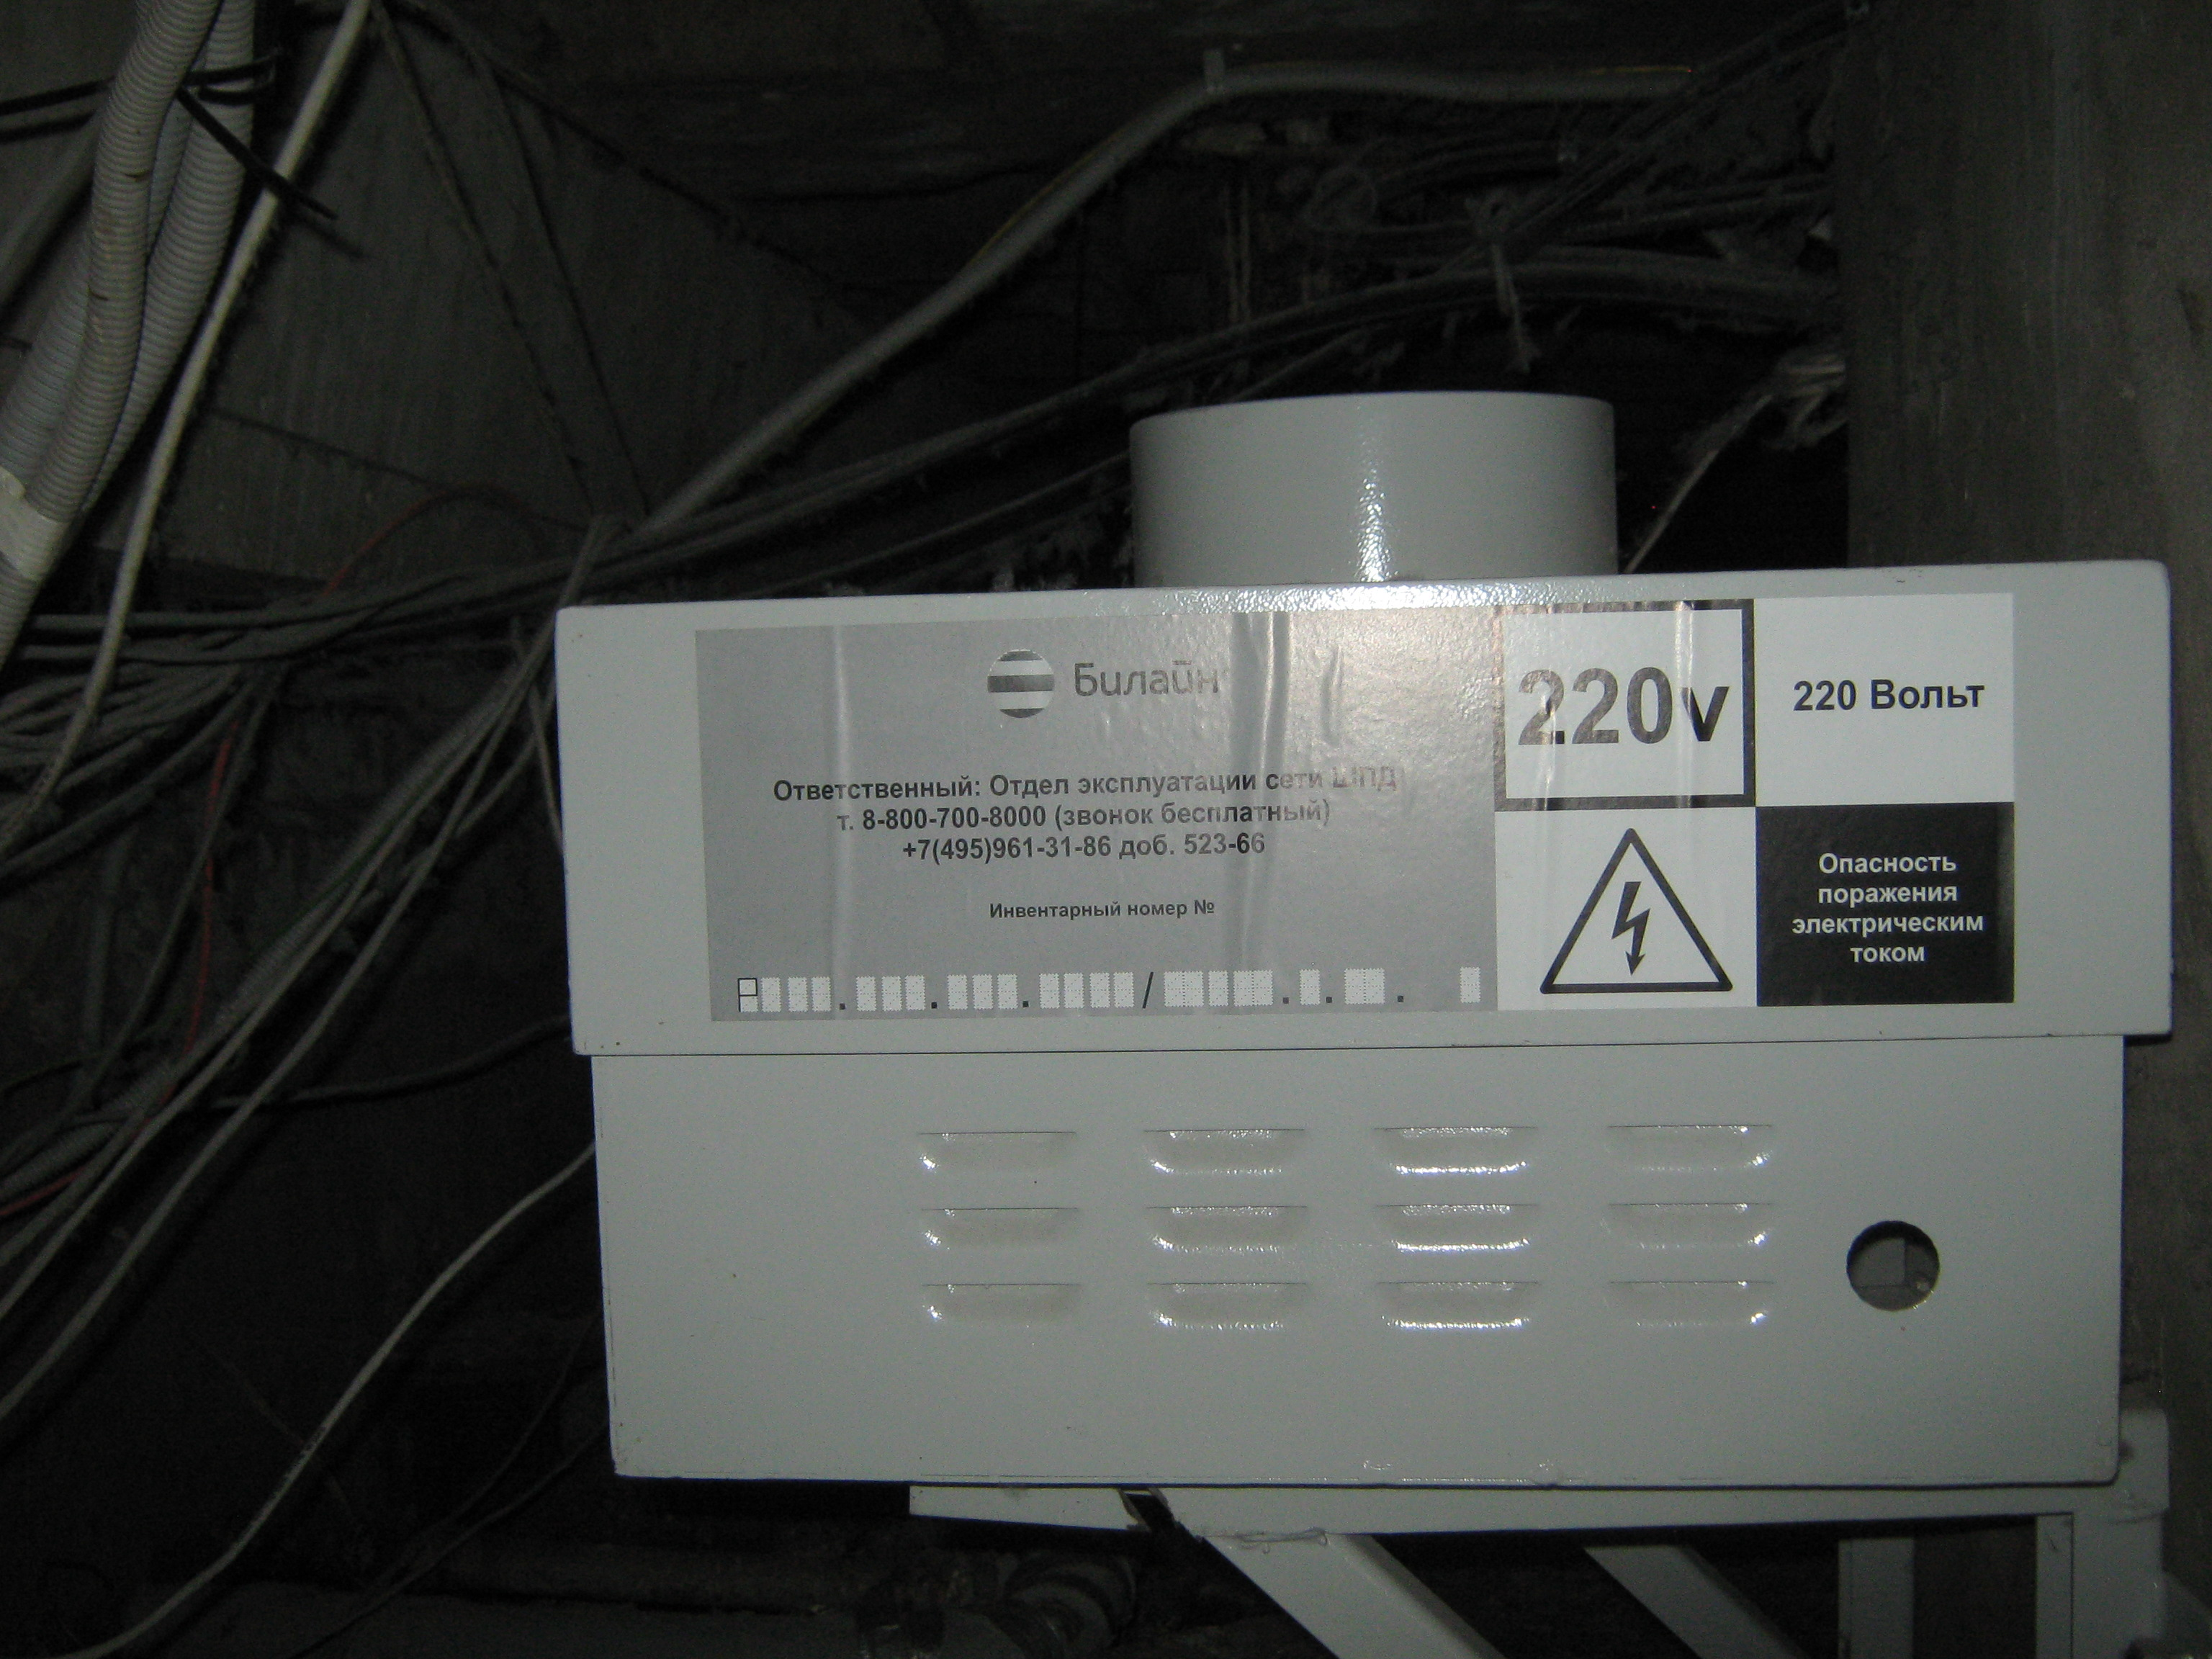shta-ps: (538, 376, 2195, 1532)
